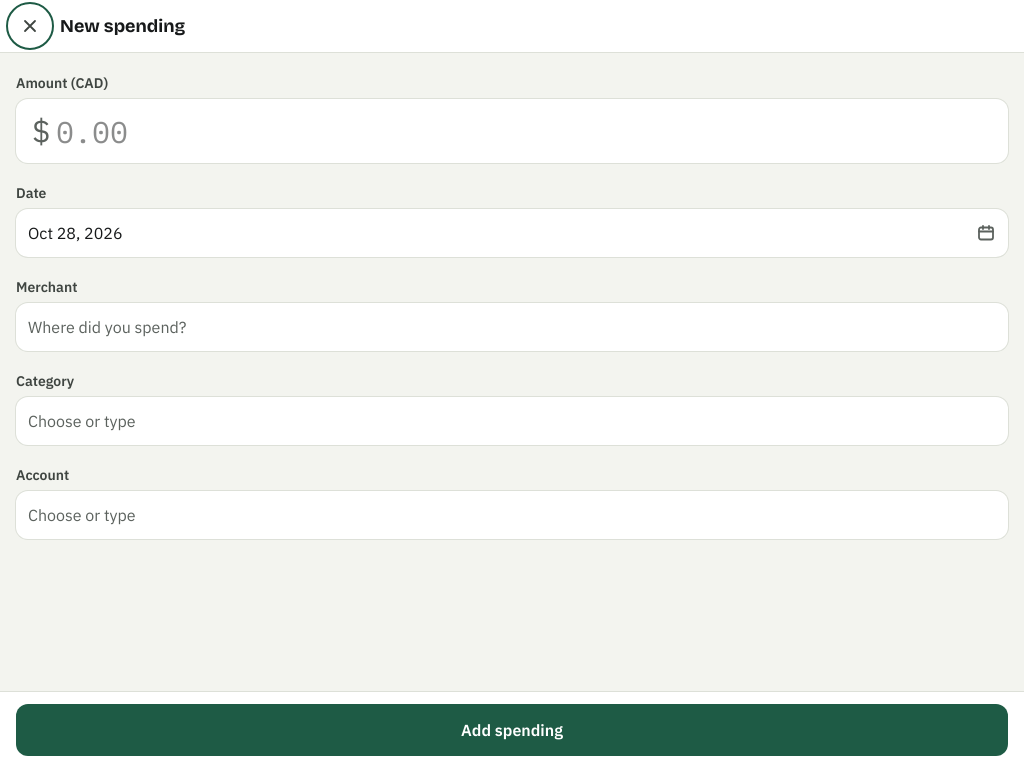
Scenario: SpendingForm — no accounts (specs/007 FR-024) › refuses an account that is not one of the user’s
This screenshot has width=1024, height=768.
Step 1. Type "5" into the field labelled "Amount (CAD)" → [512, 131], box [16,99,1008,163]
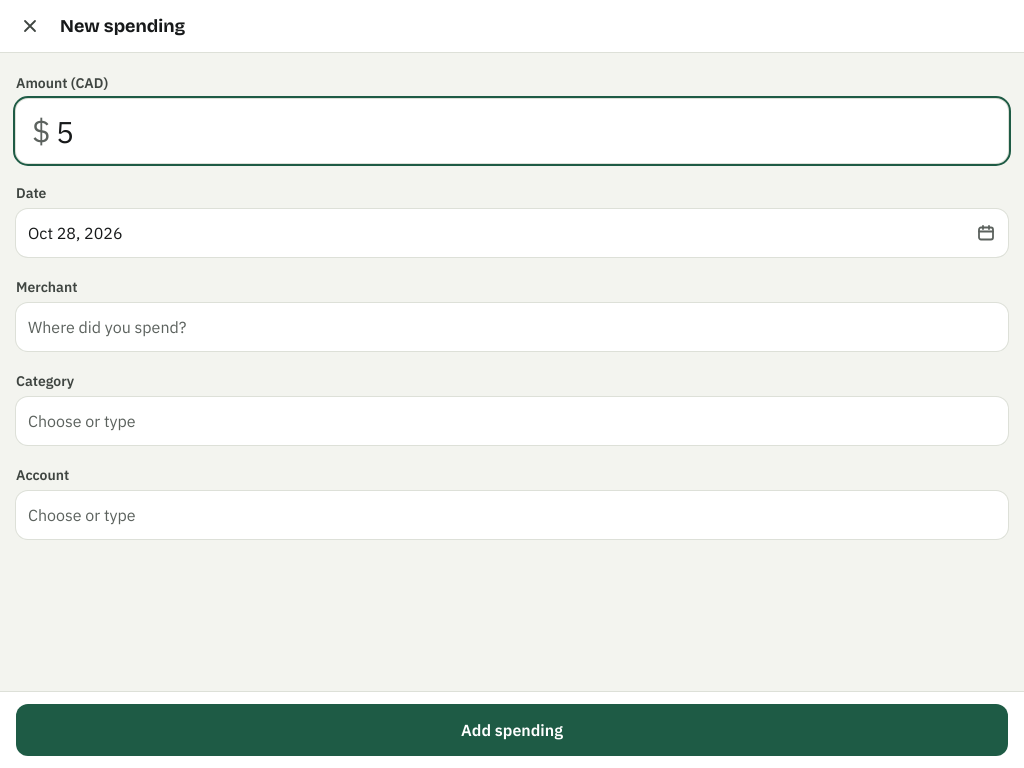
Step 2. Type "Kiosk" into the dropdown labelled "Merchant" → [512, 327], box [16,303,1008,351]
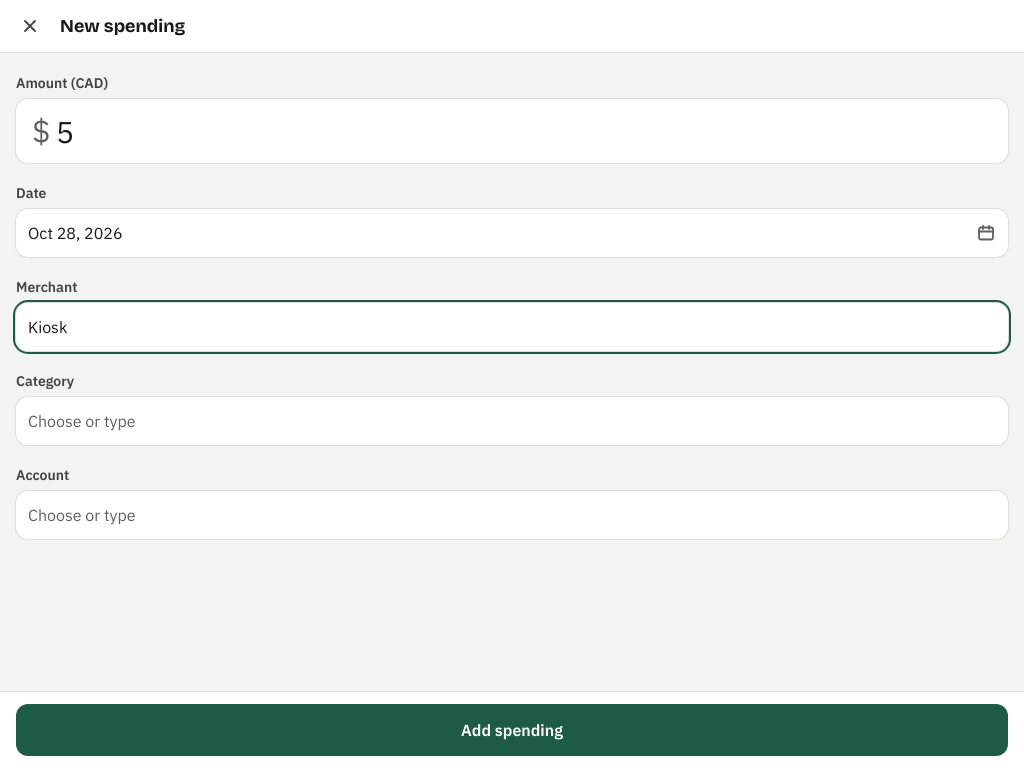
Step 3. Type "Coffee" into the dropdown labelled "Category" → [512, 421], box [16,397,1008,445]
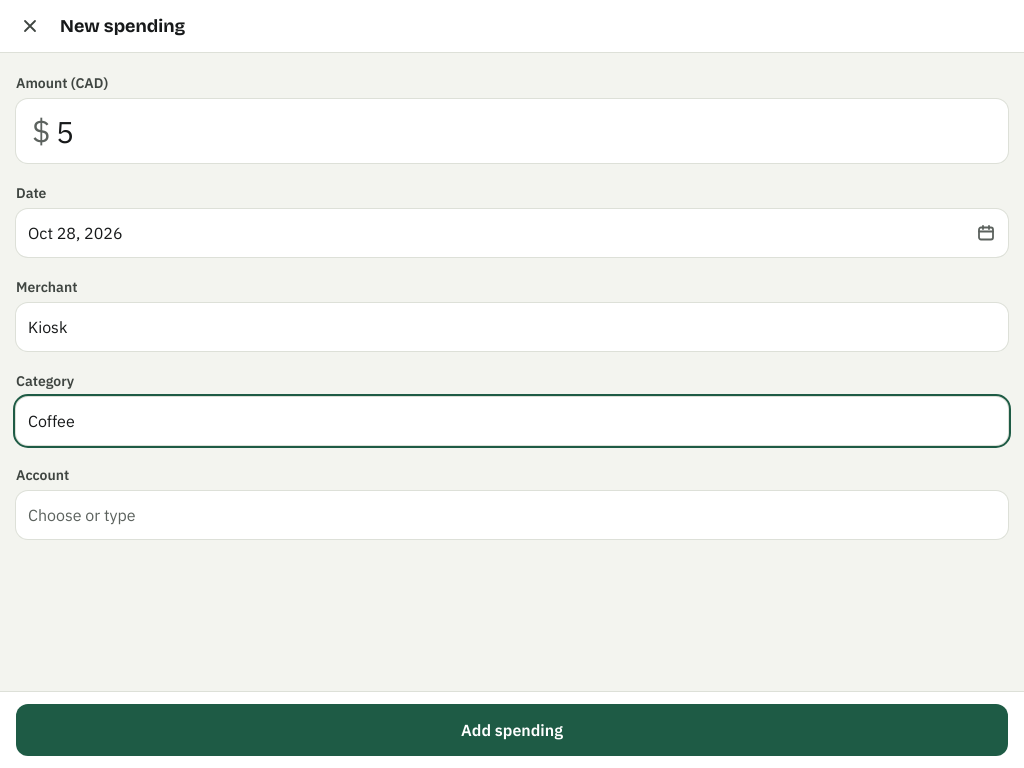
Step 4. Type "Visa Gold" into the dropdown labelled "Account" → [512, 515], box [16,491,1008,539]
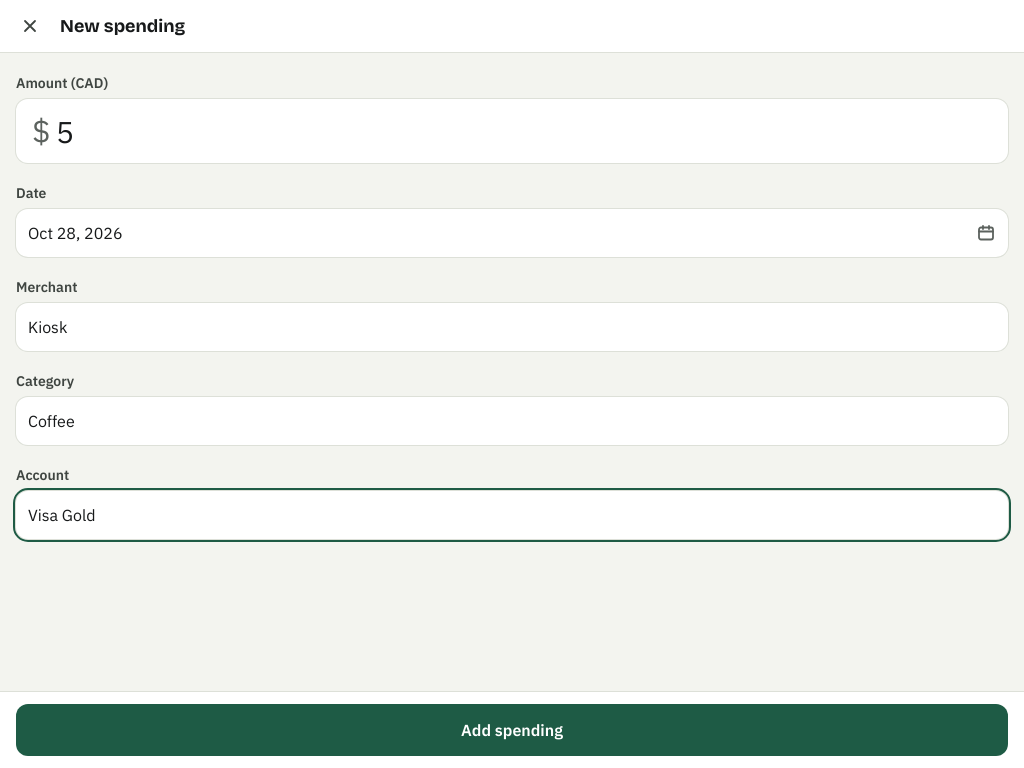
Step 5. Click the button "Add spending" → [512, 730], box [16,704,1008,756]
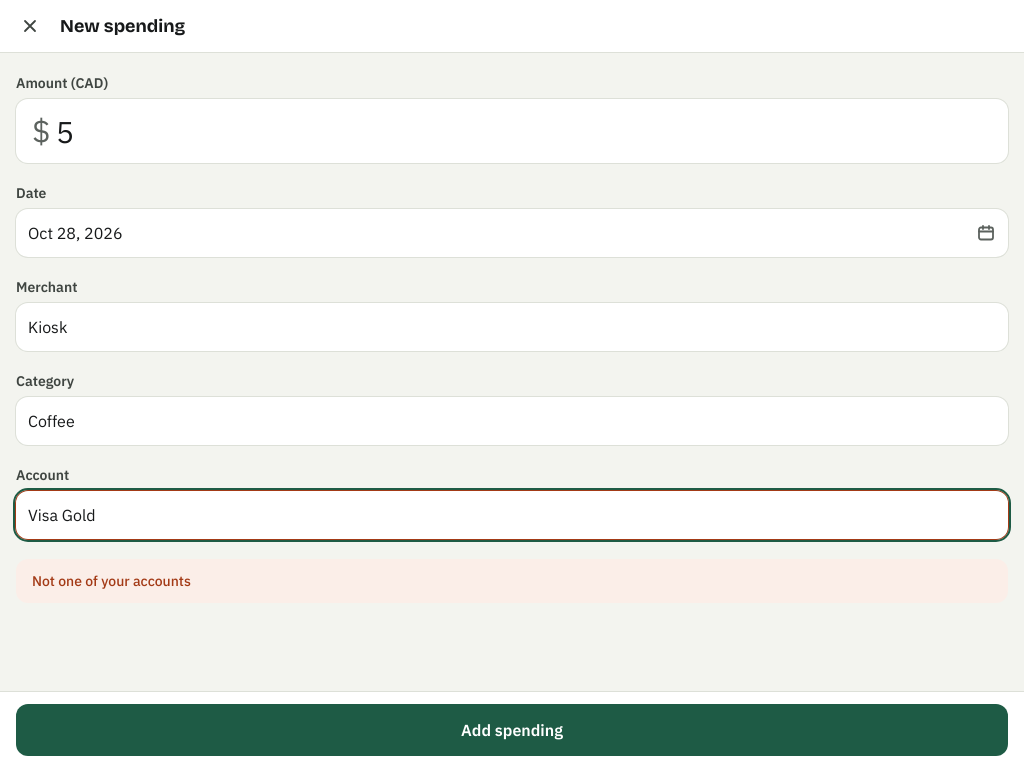
Result: the message reads "Not one of your accounts" at [32,572,191,590]
